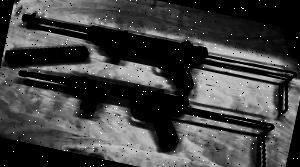SMG: (23, 6, 300, 116), (14, 63, 280, 166)
